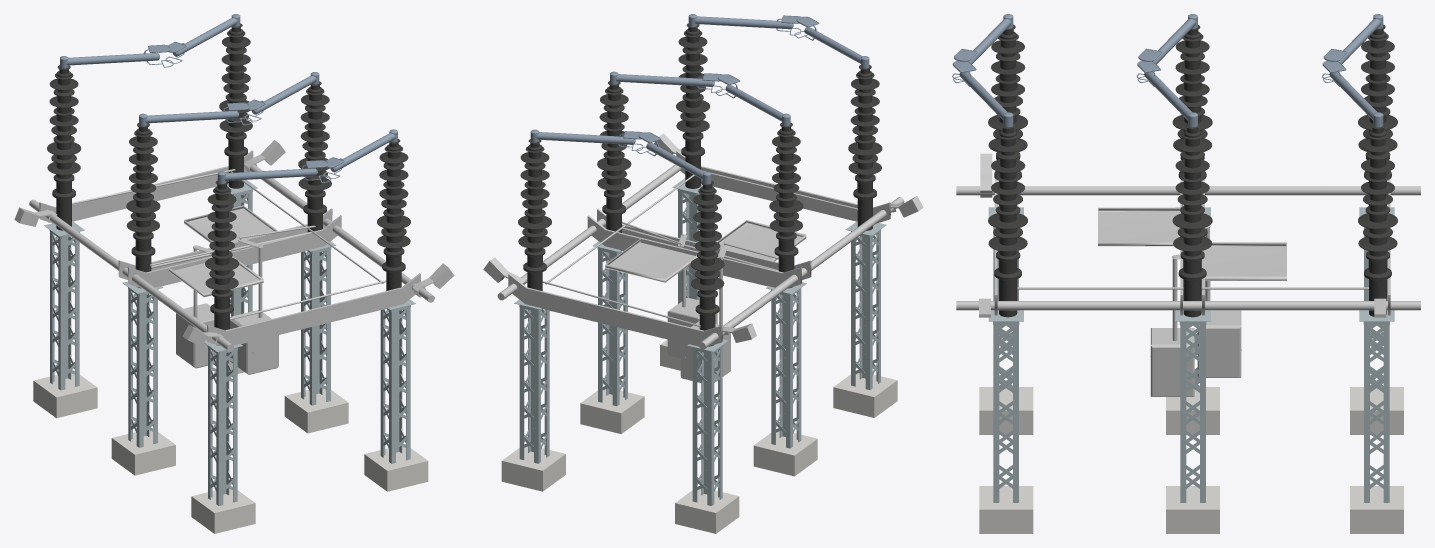
File: Razedinitel.fbx
3 views of the same model, side by side, from view 1: azimuth 30°, elevation 25°; view 2: azimuth 150°, elevation 25°; view 3: azimuth 270°, elevation 25° (orthographic). The views are drawn at different scales.
Visible parts, largest first — view 1: Cube.098, Cube.097, Cube.102, Cube.100, Cube.085, Cube.086, Cylinder.047, Cylinder.052, Cylinder.056, Cylinder.032, Cylinder.042, Cylinder.041 (+24 smaller); view 2: Cube.097, Cube.100, Cube.083, Cube.102, Cube.089, Cylinder.056, Cube.085, Cylinder.042, Cylinder.047, Cylinder.032, Cylinder.052, Cylinder.041 (+20 smaller); view 3: Cylinder.052, Cylinder.041, Cylinder.042, Cylinder.019, Cube.083, Cube.085, Cube.098, Cylinder.030, Cube.005, Cube, Cylinder.032, Cylinder.047 (+18 smaller).
Part boxes in pixels (x1,y1,x2,y2): Cube.098: (380,299,415,463); Cube.097: (44,221,84,390); Cube.102: (204,340,242,505); Cube.100: (122,281,163,447); Cube.085: (301,241,335,405); Cube.086: (207,273,420,346); Cylinder.047: (47,65,80,230); Cylinder.052: (377,139,410,290); Cylinder.056: (205,180,239,345); Cylinder.032: (126,123,160,288); Cylinder.042: (219,23,252,188); Cylinder.041: (298,81,331,232); Cube.097: (687,339,727,505); Cube.100: (766,282,806,448); Cube.083: (514,299,549,463); Cube.102: (845,221,886,389); Cube.089: (508,273,722,346); Cylinder.056: (848,65,882,230); Cube.085: (593,241,627,406); Cylinder.042: (518,139,551,290); Cylinder.047: (690,180,724,346); Cylinder.032: (769,123,803,288); Cylinder.052: (676,23,709,188); Cylinder.041: (597,81,631,232); Cylinder.052: (988,123,1027,317); Cylinder.041: (1172,123,1212,317); Cylinder.042: (1358,123,1397,316); Cylinder.019: (956,301,1420,310); Cube.083: (1359,310,1394,502); Cube.085: (1175,310,1210,502); Cube.098: (988,310,1023,502); Cylinder.030: (956,186,1420,195); Cube.005: (1098,207,1180,246); Cube: (1205,242,1286,280); Cylinder.032: (1172,25,1212,205); Cylinder.047: (1358,24,1397,205).
Bounding box in the file's own units: 391 × 491 × 507.
